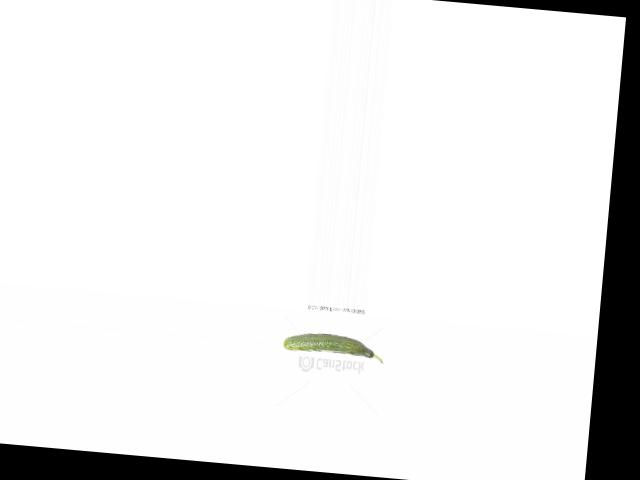cucumber: (283, 330, 386, 363)
